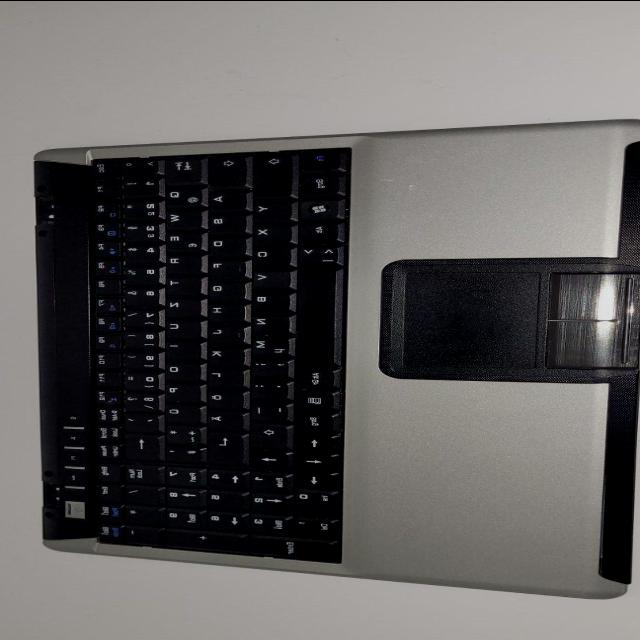0: (120, 370, 160, 389)
1: (119, 176, 159, 194)
2: (120, 198, 160, 218)
3: (118, 219, 160, 239)
4: (120, 242, 160, 262)
5: (120, 265, 160, 283)
6: (120, 286, 160, 305)
7: (120, 307, 160, 325)
8: (120, 329, 160, 347)
9: (119, 349, 159, 368)
a: (204, 190, 244, 209)
accent: (121, 411, 159, 430)
ae: (201, 409, 243, 429)
alt-left: (294, 220, 338, 242)
altgr-right: (292, 367, 332, 387)
b: (247, 290, 287, 310)
c: (248, 246, 288, 265)
caret: (118, 157, 158, 173)
comma: (246, 357, 290, 376)
d: (203, 234, 243, 254)
del: (121, 432, 159, 458)
e: (161, 231, 201, 250)
enter: (201, 431, 243, 463)
f: (205, 258, 243, 276)
g: (203, 279, 243, 299)
h: (205, 302, 243, 322)
hash: (159, 444, 203, 460)
i: (161, 340, 199, 358)
j: (203, 324, 243, 342)
k: (203, 346, 243, 364)
keyboard: (46, 141, 359, 567)
l: (203, 366, 243, 386)
less: (293, 243, 339, 265)
m: (246, 335, 288, 353)
minus: (246, 400, 288, 420)
n: (248, 314, 288, 333)
o: (160, 360, 198, 380)
oe: (202, 388, 242, 408)
p: (161, 381, 199, 401)
plus: (160, 423, 200, 443)
point: (246, 378, 288, 398)
q: (161, 186, 201, 206)
r: (161, 252, 201, 272)
s: (202, 212, 244, 231)
shift-left: (247, 152, 291, 198)
shift-lock: (203, 153, 245, 187)
shift-right: (246, 421, 288, 447)
space: (292, 268, 334, 364)
ss: (121, 391, 159, 409)
strg-left: (294, 173, 340, 195)
strg-right: (291, 409, 333, 431)
t: (161, 275, 199, 293)
tab: (160, 155, 200, 183)
u: (161, 318, 199, 336)
ue: (161, 402, 199, 422)
v: (249, 269, 289, 288)
w: (161, 209, 199, 228)
x: (249, 224, 289, 243)
y: (249, 201, 291, 220)
z: (161, 297, 201, 315)
